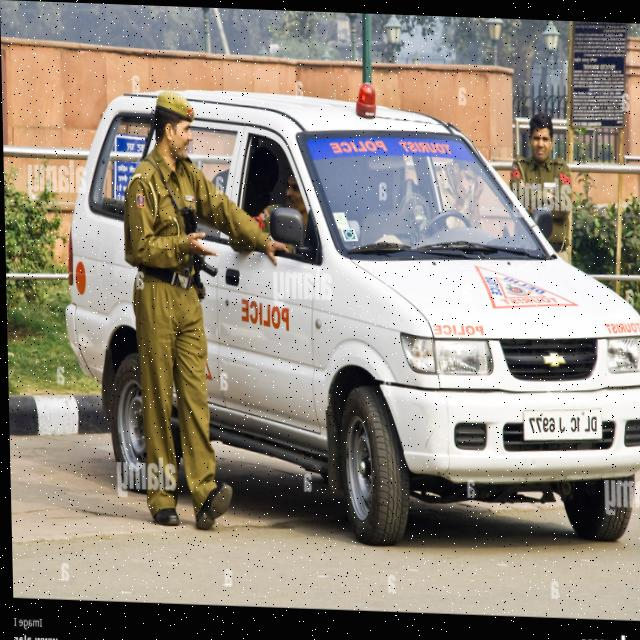plate: (513, 397, 607, 448)
